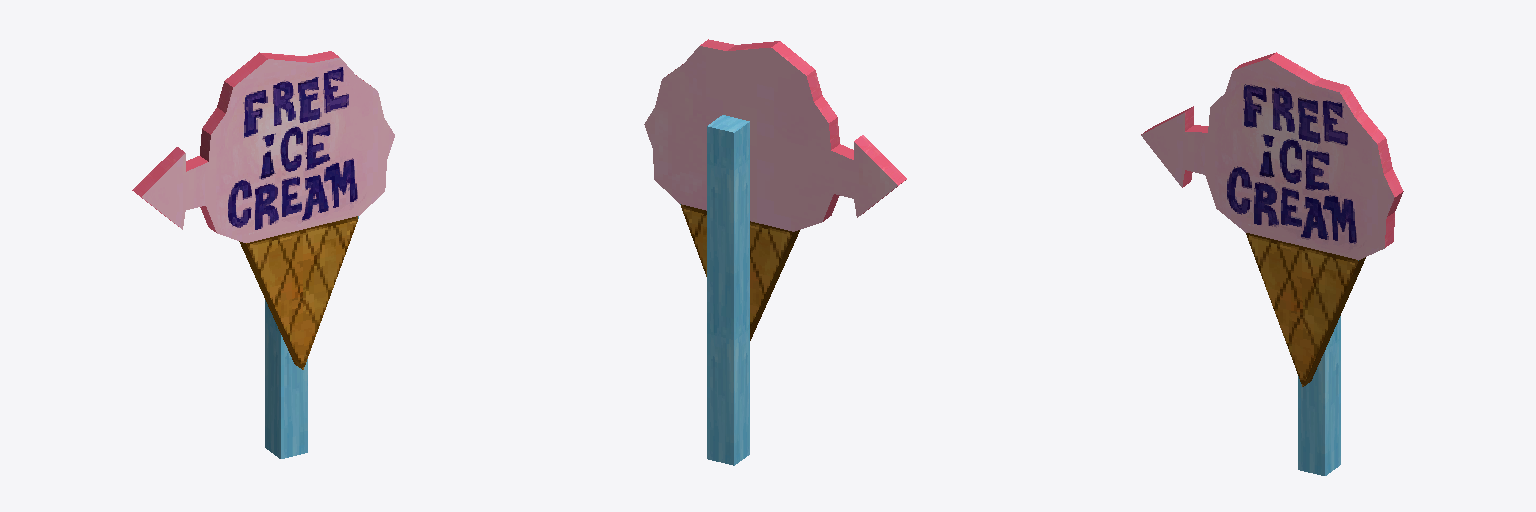
The picture shows the model from 3 angles: view 1: azimuth 30°, elevation 25°; view 2: azimuth 150°, elevation 25°; view 3: azimuth 330°, elevation 25°; orthographic projection.
Visible parts, largest first — view 1: Object001, Object002; view 2: Object001, Object002; view 3: Object001, Object002.
Part boxes in pixels (x1,y1,x2,y2): Object001: (132,51,394,242); Object002: (239,216,358,458); Object001: (644,39,906,231); Object002: (680,115,799,465); Object001: (1141,52,1403,259); Object002: (1246,233,1365,475).
Bounding box in the file's own units: 4.77 × 7.38 × 0.8001.
2 materials, 2 textured.